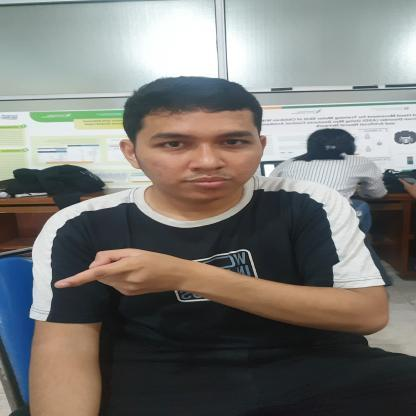Kamu: (48, 228, 193, 326)
